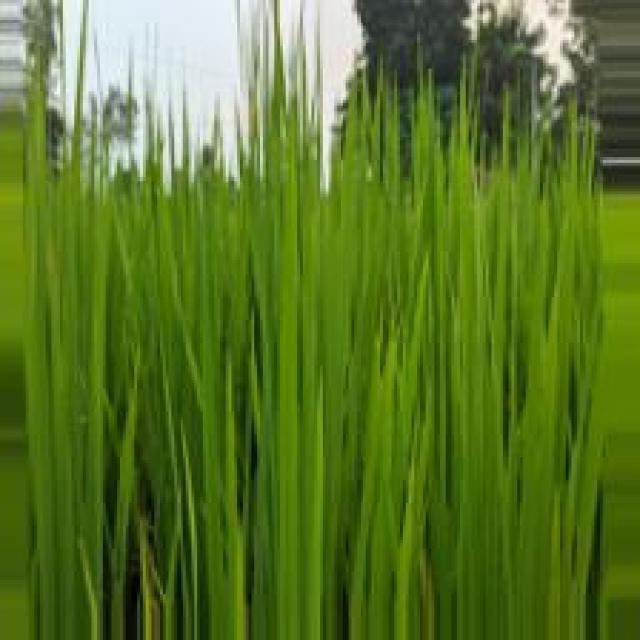HealthyLeaf: (277, 418, 301, 636), (465, 539, 498, 633)
